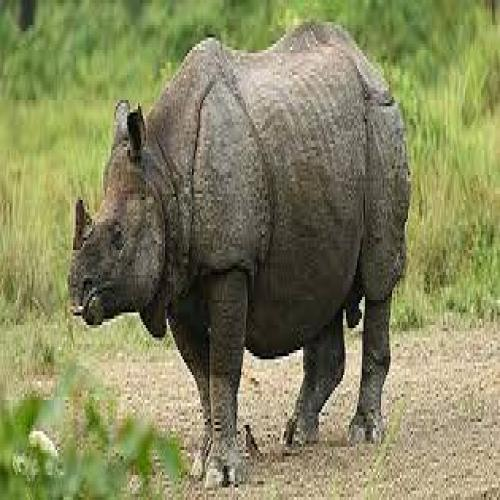rhino-endangered: (70, 41, 412, 451)
